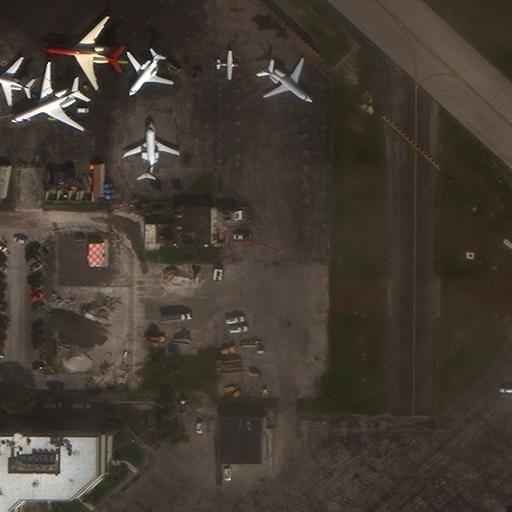Medium Civil Transport: (41, 16, 127, 90), (11, 62, 82, 131), (125, 121, 179, 178), (262, 58, 313, 103), (126, 53, 172, 96), (0, 57, 31, 106)
Small Civil Transport: (215, 50, 239, 79)
